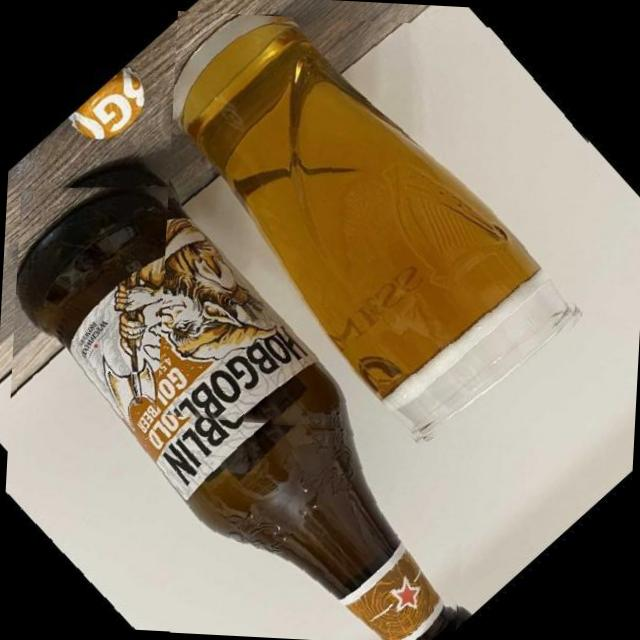Glass: (0, 157, 491, 640), (156, 11, 596, 448)
